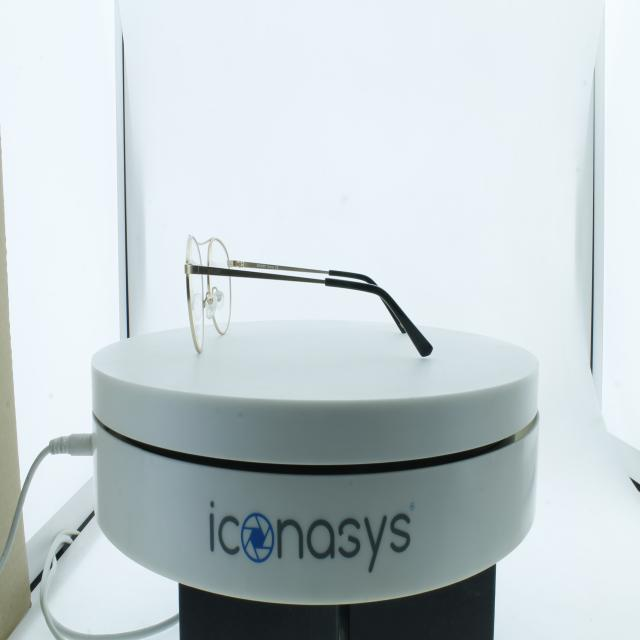Specs: (166, 209, 452, 384)
